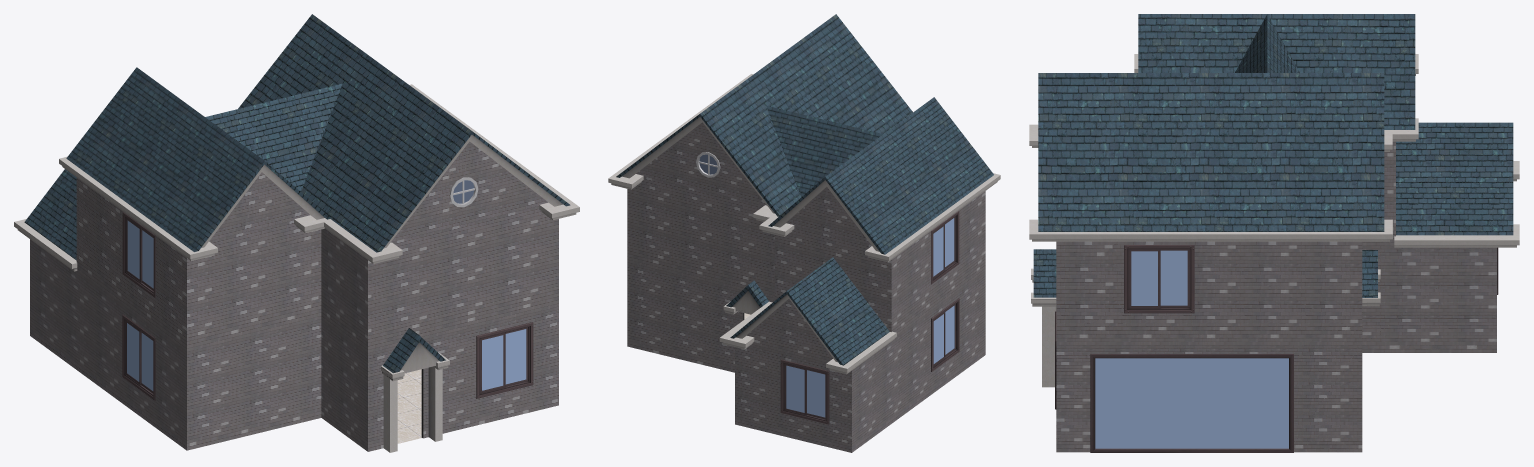
File: house_0130006.FBX
3 views of the same model, side by side, from view 1: azimuth 30°, elevation 25°; view 2: azimuth 150°, elevation 25°; view 3: azimuth 270°, elevation 25° (orthographic). The views are drawn at different scales.
Visible parts, largest first — view 1: house_0130006_roof_200_00, house_0130006_outwall_200_00, house_0130006_outwall_100_00, house_0130006_outwall_100_06, house_0130006_outwall_100_05, house_0130006_outwall_200_06, house_0130006_floor_101_00, house_0130006_outwall_200_05, house_0130006_outwall_100_07, house_0130006_outwall_200_07, house_0130006_roof_100_00, house_0130006_floor_203_00 (+6 smaller); view 2: house_0130006_roof_200_00, house_0130006_outwall_200_02, house_0130006_roof_100_00, house_0130006_outwall_100_02, house_0130006_outwall_100_05, house_0130006_outwall_100_04, house_0130006_outwall_200_04, house_0130006_outwall_200_05, house_0130006_floor_102_00, house_0130006_floor_101_00, house_0130006_floor_203_00, house_0130006_tcx_200_02 (+4 smaller); view 3: house_0130006_roof_200_00, house_0130006_outwall_200_01, house_0130006_floor_101_00, house_0130006_roof_100_00, house_0130006_outwall_100_01, house_0130006_outwall_100_03, house_0130006_floor_202_00, house_0130006_outwall_100_00, house_0130006_tcx_200_01, house_0130006_tcx_100_03, house_0130006_outwall_100_02, house_0130006_tcx_100_01 (+1 smaller).
Boxes of the visible parts, x1=… form: house_0130006_roof_200_00: x1=59, y1=14, x2=579, y2=263; house_0130006_outwall_200_00: x1=368, y1=206, x2=558, y2=342; house_0130006_outwall_100_00: x1=368, y1=303, x2=558, y2=452; house_0130006_outwall_100_06: x1=187, y1=316, x2=321, y2=443; house_0130006_outwall_100_05: x1=30, y1=239, x2=186, y2=443; house_0130006_outwall_200_06: x1=187, y1=220, x2=321, y2=341; house_0130006_floor_101_00: x1=122, y1=314, x2=533, y2=443; house_0130006_outwall_200_05: x1=76, y1=178, x2=186, y2=341; house_0130006_outwall_100_07: x1=321, y1=316, x2=367, y2=444; house_0130006_outwall_200_07: x1=321, y1=228, x2=367, y2=342; house_0130006_roof_100_00: x1=14, y1=169, x2=77, y2=271; house_0130006_floor_203_00: x1=122, y1=212, x2=155, y2=297; house_0130006_roof_200_00: x1=608, y1=14, x2=1000, y2=262; house_0130006_outwall_200_02: x1=627, y1=176, x2=774, y2=289; house_0130006_roof_100_00: x1=719, y1=257, x2=896, y2=374; house_0130006_outwall_100_02: x1=627, y1=259, x2=774, y2=366; house_0130006_outwall_100_05: x1=852, y1=268, x2=985, y2=446; house_0130006_outwall_100_04: x1=735, y1=342, x2=851, y2=446; house_0130006_outwall_200_04: x1=774, y1=226, x2=891, y2=330; house_0130006_outwall_200_05: x1=891, y1=191, x2=985, y2=330; house_0130006_floor_102_00: x1=780, y1=359, x2=829, y2=424; house_0130006_floor_101_00: x1=744, y1=298, x2=959, y2=371; house_0130006_floor_203_00: x1=931, y1=211, x2=959, y2=284; house_0130006_tcx_200_02: x1=627, y1=253, x2=774, y2=295; house_0130006_roof_200_00: x1=1029, y1=14, x2=1418, y2=241; house_0130006_outwall_200_01: x1=1056, y1=241, x2=1362, y2=334; house_0130006_floor_101_00: x1=1055, y1=311, x2=1293, y2=452; house_0130006_roof_100_00: x1=1394, y1=122, x2=1519, y2=247; house_0130006_outwall_100_01: x1=1056, y1=342, x2=1362, y2=444; house_0130006_outwall_100_03: x1=1362, y1=242, x2=1496, y2=345; house_0130006_floor_202_00: x1=1124, y1=245, x2=1194, y2=313; house_0130006_outwall_100_00: x1=1031, y1=249, x2=1056, y2=387; house_0130006_tcx_200_01: x1=1056, y1=334, x2=1362, y2=341; house_0130006_tcx_100_03: x1=1362, y1=345, x2=1496, y2=352; house_0130006_outwall_100_02: x1=1362, y1=250, x2=1380, y2=306; house_0130006_tcx_100_01: x1=1056, y1=444, x2=1362, y2=452.
Bounding box in the file's own units: 1014 × 865 × 1166.
84 materials, 84 textured.
